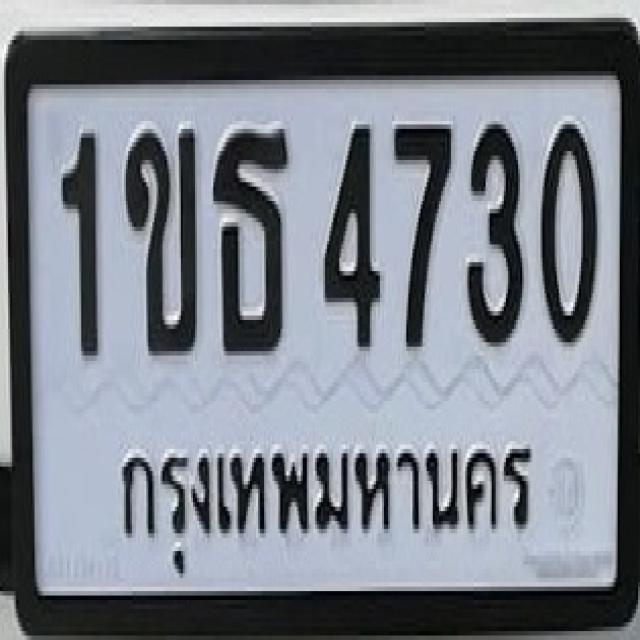license_plate: (5, 32, 640, 638)
